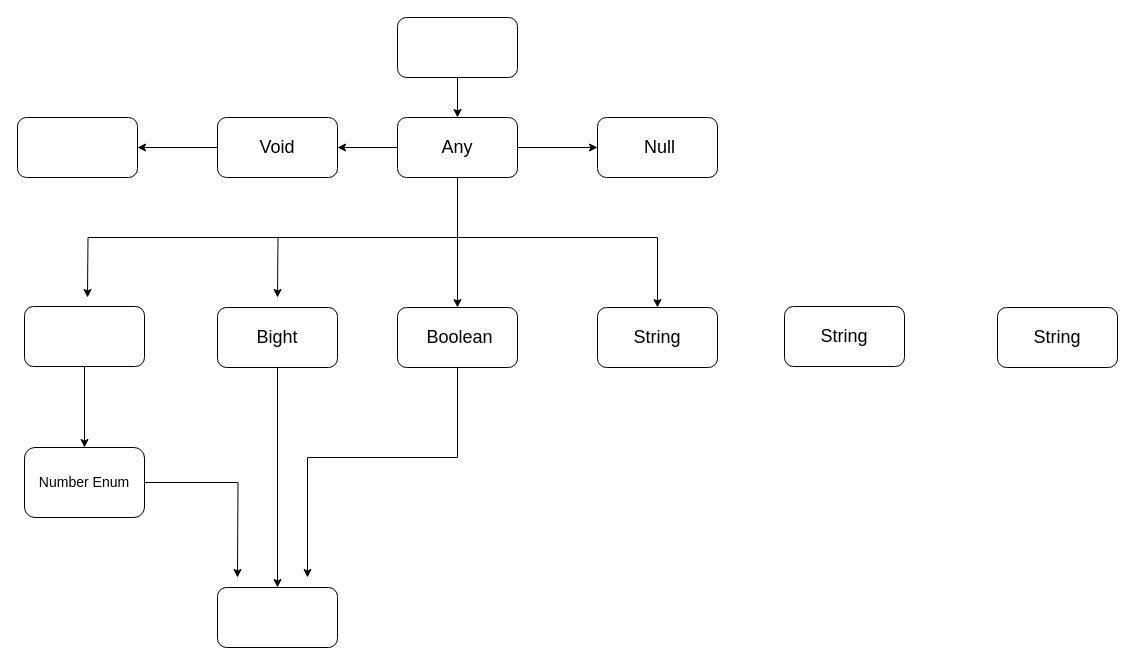
Image size: 1135x665. Some labels were removed from this diagram. The centre of each missing label's shape, as x and y in pixels:
Never: the point at 277,617
Number: the point at 84,336
Undefined: the point at 77,147
Unkown: the point at 457,47
